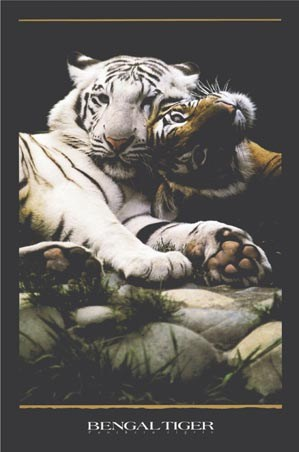Tigre: (59, 51, 161, 183), (162, 85, 266, 186)
